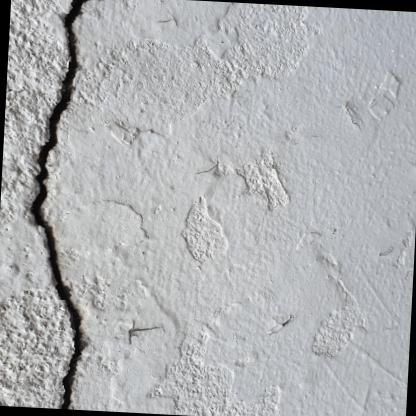crack: (28, 0, 88, 409)
